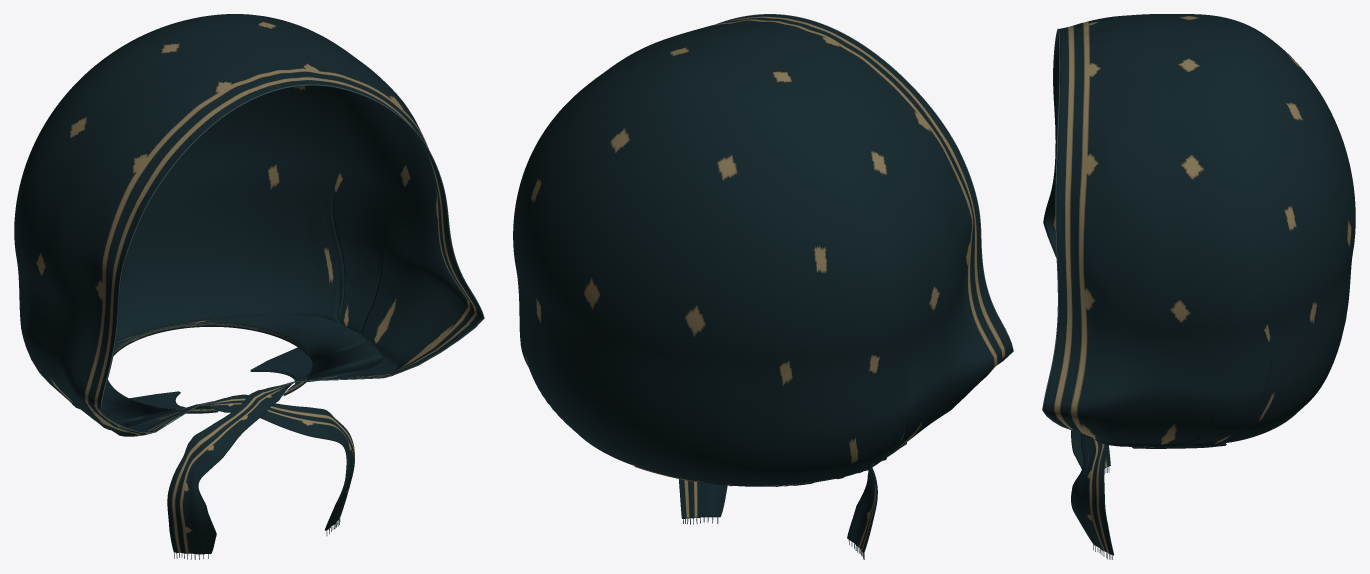
File: Feminine-straight-sweatshirt-pashmina250-headgear.glb
3 renders of one model, left to right at view 1: azimuth 30°, elevation 25°; view 2: azimuth 150°, elevation 25°; view 3: azimuth 270°, elevation 25°, orthographic. The views are drawn at different scales.
Visible parts, largest first — view 1: 226 headgear / Headwear / continuous woven pashmina239, 226 headgear / Headwear / face edge239; view 2: 226 headgear / Headwear / continuous woven pashmina239, 226 headgear / Headwear / face edge239; view 3: 226 headgear / Headwear / continuous woven pashmina239, 226 headgear / Headwear / face edge239.
Part boxes in pixels (x1,y1,x2,y2): 226 headgear / Headwear / continuous woven pashmina239: (14,14,483,554); 226 headgear / Headwear / face edge239: (100,84,484,432); 226 headgear / Headwear / continuous woven pashmina239: (513,14,1012,553); 226 headgear / Headwear / face edge239: (717,14,1013,364); 226 headgear / Headwear / continuous woven pashmina239: (1043,14,1355,555); 226 headgear / Headwear / face edge239: (1042,28,1072,429).
Bounding box in the file's own units: 1.16 × 1.39 × 0.8127.
Materials: 3 (1 with a texture image).
